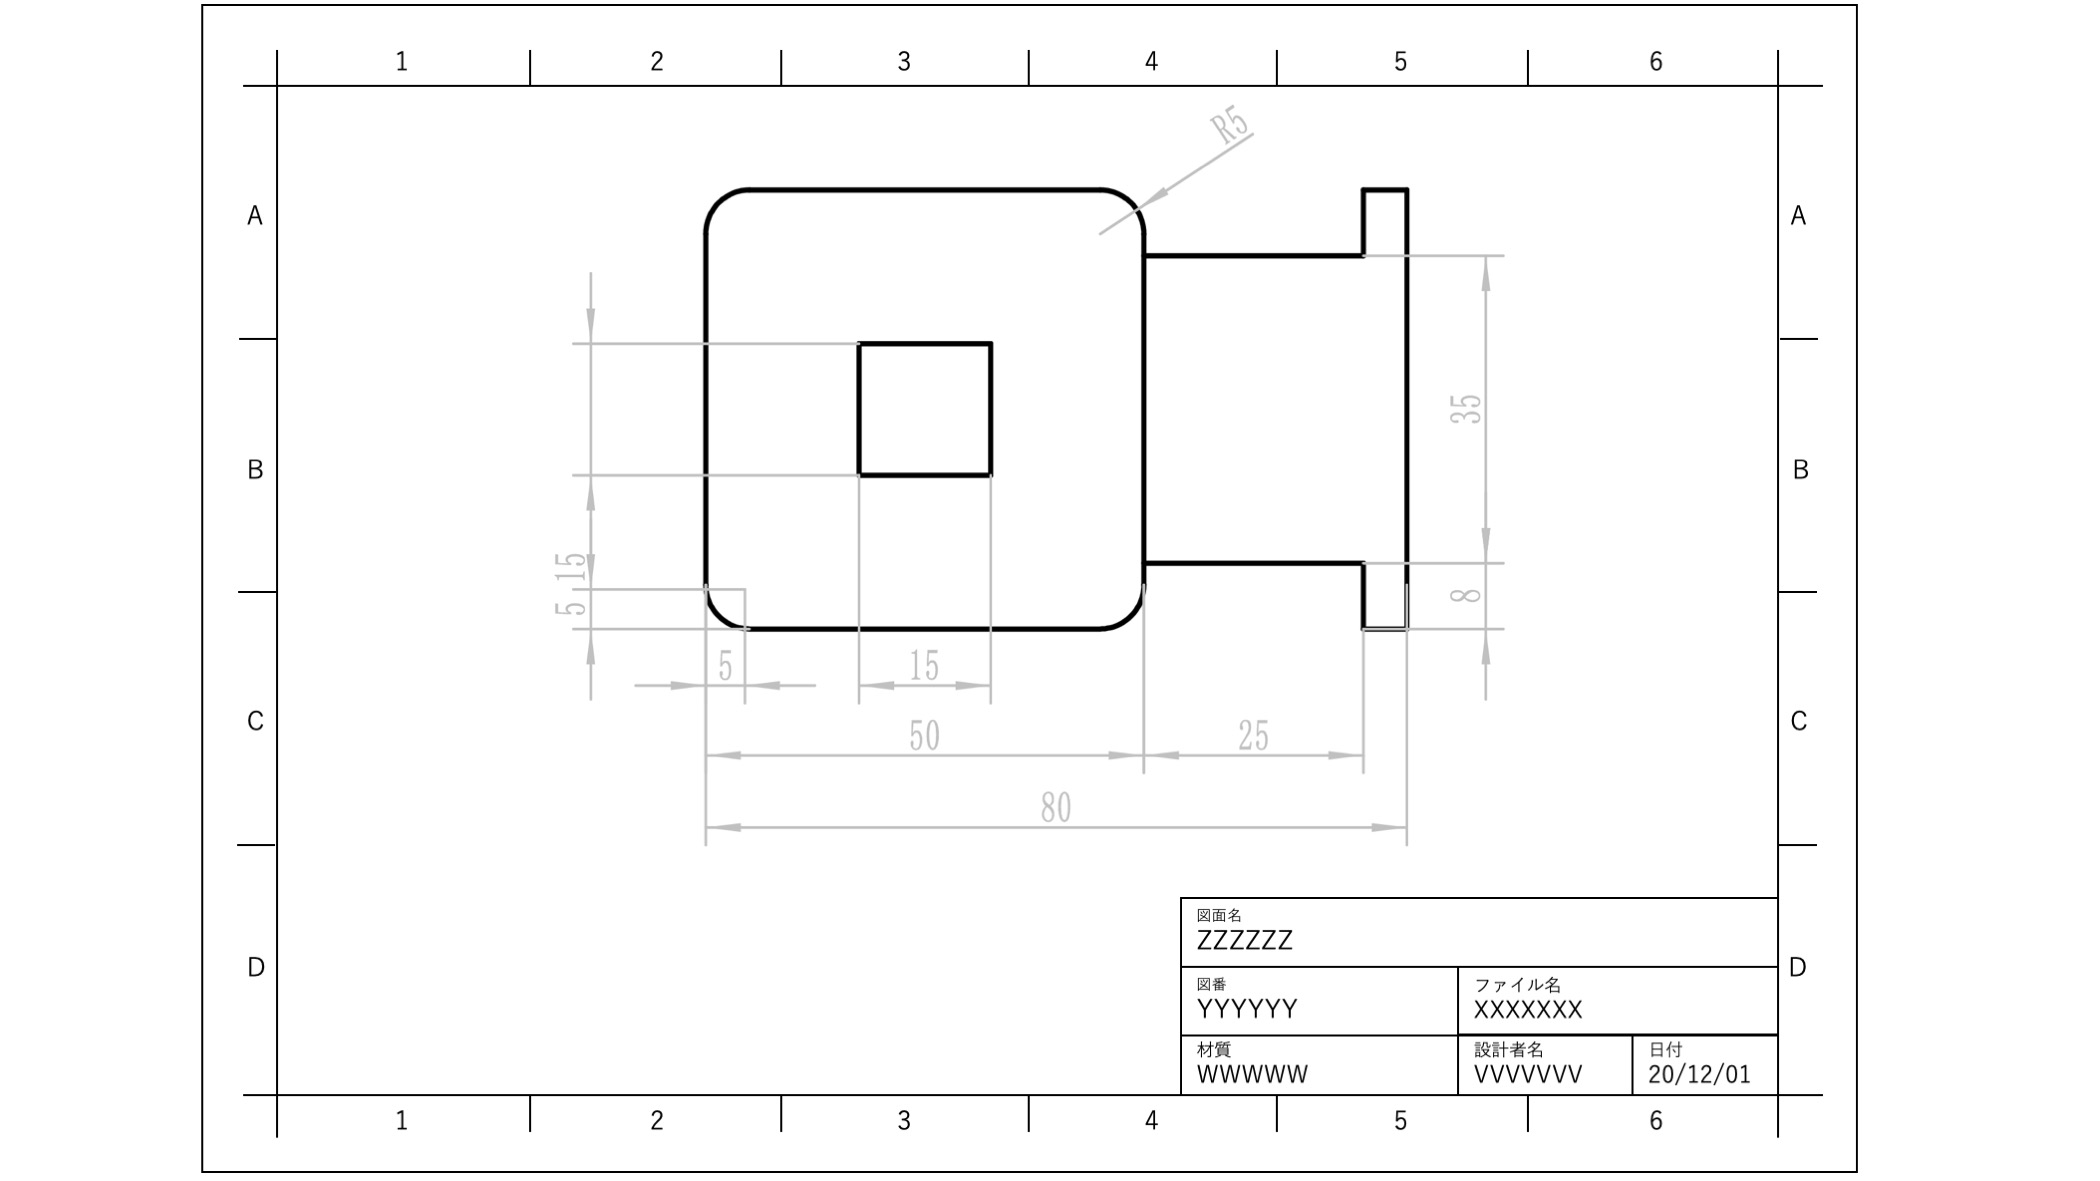rectangle: (837, 329, 1010, 490)
